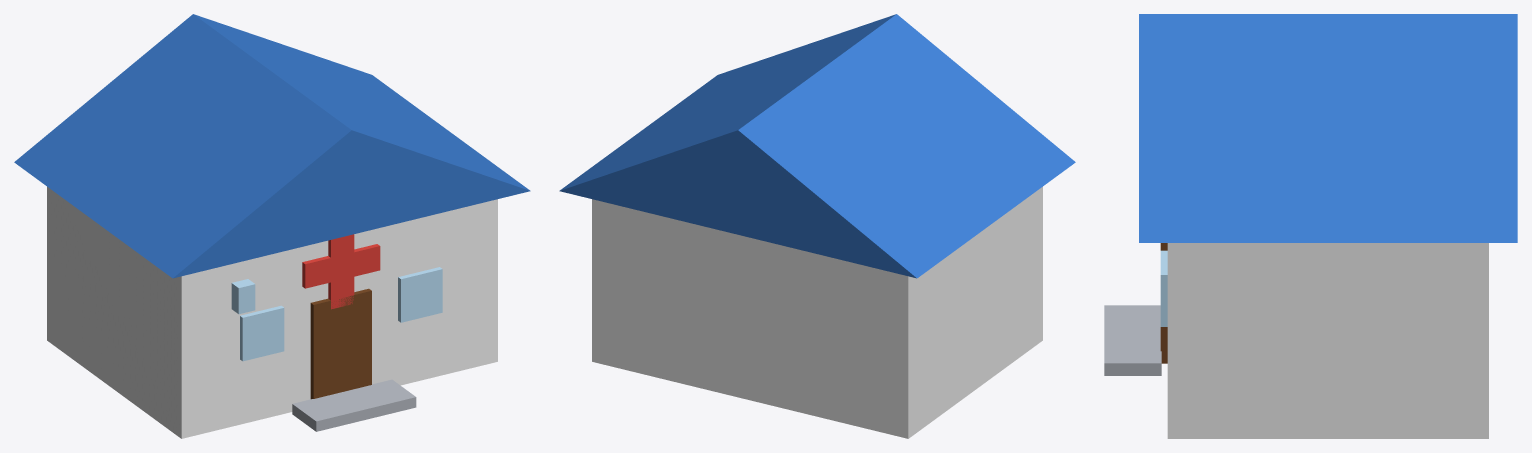
File: b_hospital.glb
3 views of the same model, side by side, from view 1: azimuth 30°, elevation 25°; view 2: azimuth 150°, elevation 25°; view 3: azimuth 270°, elevation 25° (orthographic). The views are drawn at different scales.
Visible parts, largest first — view 1: Roof, Walls, Door, Step, CrossH, Window1, Window-1, CrossV, Lamp; view 2: Roof, Walls; view 3: Roof, Walls, Step, Window1.
Boxes of the visible parts, bbox=[...] form: Roof: bbox=[14, 14, 530, 278]; Walls: bbox=[47, 187, 497, 438]; Door: bbox=[310, 288, 371, 399]; Step: bbox=[292, 379, 416, 431]; CrossH: bbox=[302, 244, 380, 288]; Window1: bbox=[398, 267, 442, 322]; Window-1: bbox=[240, 305, 284, 361]; CrossV: bbox=[328, 234, 354, 309]; Lamp: bbox=[231, 279, 255, 314]; Roof: bbox=[559, 14, 1075, 278]; Walls: bbox=[592, 187, 1042, 438]; Roof: bbox=[1139, 14, 1517, 242]; Walls: bbox=[1167, 243, 1488, 438]; Step: bbox=[1104, 305, 1161, 375]; Window1: bbox=[1160, 250, 1167, 326].
Size of the model in its own units: 4.3 by 3.2 by 3.6.
